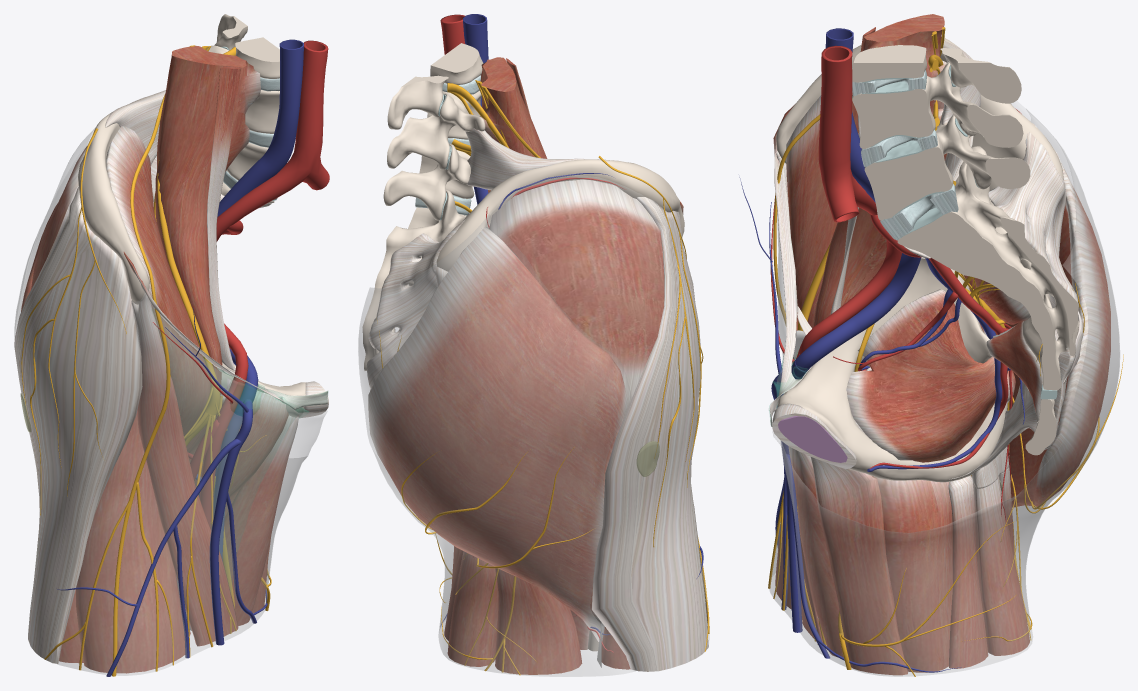
Rendered from zone-hip.glb.
3 renders of one model, left to right at view 1: azimuth 30°, elevation 25°; view 2: azimuth 150°, elevation 25°; view 3: azimuth 270°, elevation 25°, orthographic. The views are drawn at different scales.
Parts seen in each view (by area): view 1: Fascia lata.r, Iliotibial tract.r, Rectus femoris.r, Psoas major.r, Sartorius muscle.r, Femoral triangle.r, Iliacus muscle.r, External iliac artery.r, Adductor longus.r, Hip bone.r, Inferior vena cava, Psoas minor.r (+21 smaller); view 2: Fascia lata.r, Gluteus maximus muscle.r, Iliotibial tract.r, Gluteus medius muscle.r, Gluteal aponeurosis.r, Long head of biceps femoris.r, Hip bone.r, Interossea / Posterior sacro-iliac ligament.r, Semitendinosus muscle.r, Lumbar vertebrae (L4), Lumbar vertebrae (L3), Psoas major.r (+12 smaller); view 3: Fascia lata.r, Obturator internus.r, Hip bone.r, Sacrum, Gluteus maximus muscle.r, Gracilis muscle.r, Adductor magnus.r, External iliac artery.r, Lumbar vertebrae (L5), Lumbar vertebrae (L4), Psoas major.r, Iliacus muscle.r (+35 smaller).
Boxes of the visible parts, x1,y1,x2,y2 form: Fascia lata.r: (14,145,327,675); Iliotibial tract.r: (14,187,142,663); Rectus femoris.r: (76,411,185,673); Psoas major.r: (155,45,260,452); Sartorius muscle.r: (131,294,238,646); Femoral triangle.r: (152,308,300,589); Iliacus muscle.r: (106,126,210,440); External iliac artery.r: (216,40,329,383); Adductor longus.r: (224,415,298,625); Hip bone.r: (78,112,305,417); Inferior vena cava: (217,39,303,385); Psoas minor.r: (207,67,240,370); Fascia lata.r: (358,214,709,676); Gluteus maximus muscle.r: (368,227,627,641); Iliotibial tract.r: (591,197,708,671); Gluteus medius muscle.r: (489,179,664,410); Gluteal aponeurosis.r: (490,175,664,395); Long head of biceps femoris.r: (495,568,581,674); Hip bone.r: (436,159,684,271); Interossea / Posterior sacro-iliac ligament.r: (366,219,465,389); Semitendinosus muscle.r: (447,551,498,666); Lumbar vertebrae (L4): (387,90,485,169); Lumbar vertebrae (L3): (387,43,483,129); Psoas major.r: (479,57,547,192); Fascia lata.r: (769,109,1119,676); Obturator internus.r: (846,289,1007,462); Hip bone.r: (776,36,1063,482); Sacrum: (897,146,1079,390); Gluteus maximus muscle.r: (971,123,1110,507); Gracilis muscle.r: (810,457,907,675); Adductor magnus.r: (874,476,952,672); External iliac artery.r: (799,45,901,354); Lumbar vertebrae (L5): (864,109,1030,220); Lumbar vertebrae (L4): (852,61,1023,148); Psoas major.r: (813,14,945,326); Iliacus muscle.r: (786,60,947,328).
Size of the model in its own units: 0.1804 by 0.3519 by 0.1897.
26 materials, 10 textured.
